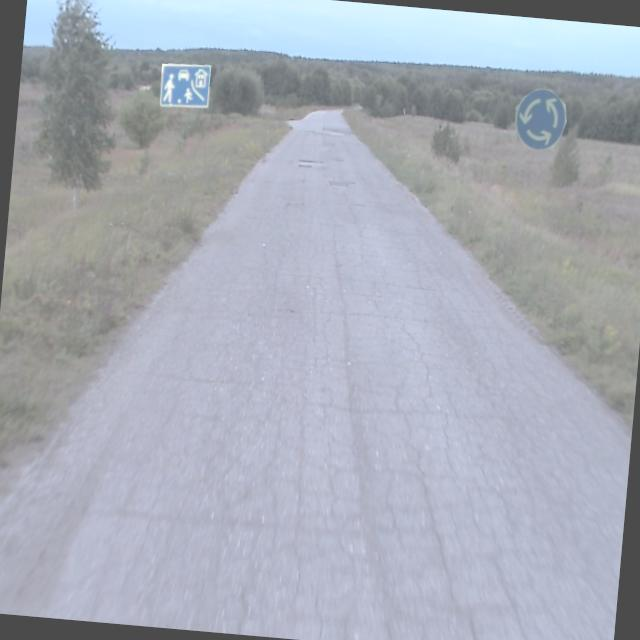road: (0, 109, 630, 640)
